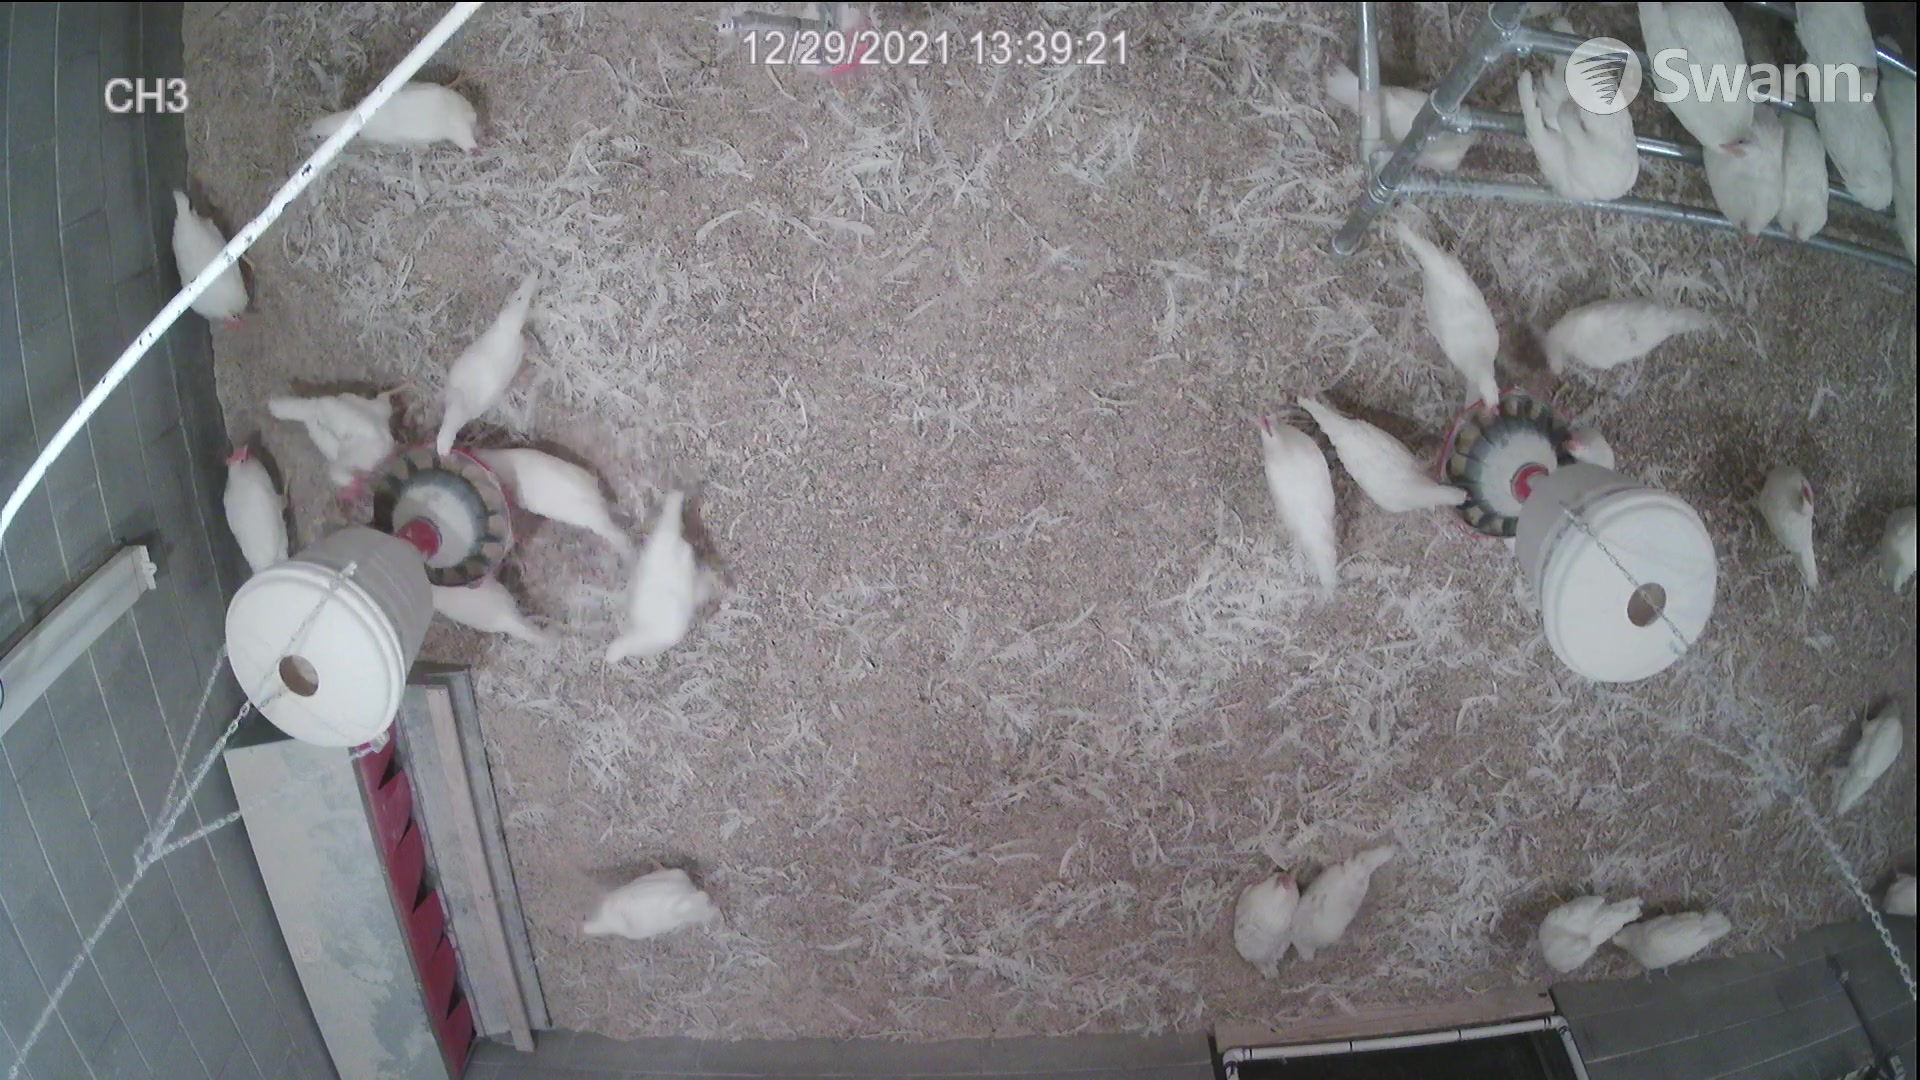Dust Bathing: (1298, 840, 1389, 981)
Feeding: (1291, 392, 1473, 531), (406, 277, 545, 444), (1403, 215, 1519, 401)
Foraging: (319, 76, 495, 179), (554, 866, 746, 945), (170, 189, 277, 328)
Perching: (1505, 17, 1655, 203), (1636, 0, 1754, 160), (1818, 95, 1898, 218), (1785, 0, 1880, 102), (1705, 102, 1764, 261), (1778, 113, 1833, 236)
